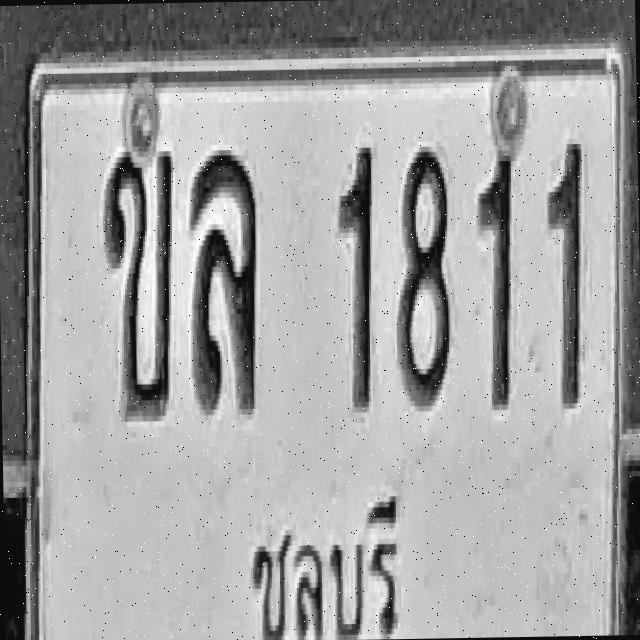1: (475, 132, 524, 408), (336, 142, 376, 412), (545, 138, 585, 403)
11KhorKhai: (102, 142, 176, 418)
45LorLing: (189, 146, 258, 412)
8: (394, 140, 451, 406)
Bangkok: (246, 478, 247, 479)
Chonburi: (242, 475, 408, 640)
